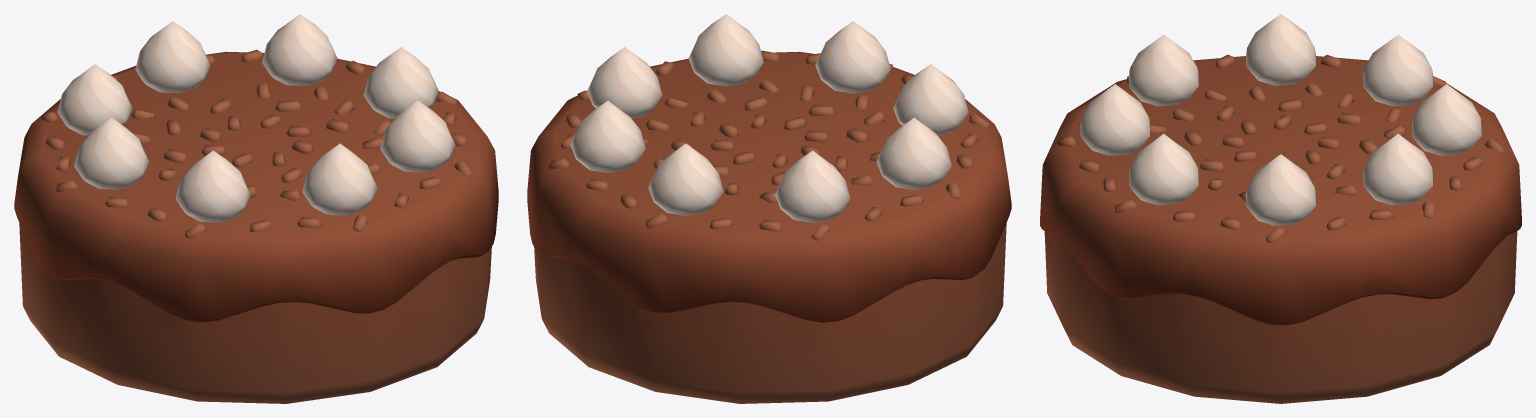
File: cake-chocolate.glb
3 renders of one model, left to right at view 1: azimuth 30°, elevation 25°; view 2: azimuth 150°, elevation 25°; view 3: azimuth 270°, elevation 25°, orthographic.
Visible parts, largest first — view 1: cake_chocolate; view 2: cake_chocolate; view 3: cake_chocolate.
Boxes of the visible parts, left/top/right/bottom form: cake_chocolate: left=14, top=14, right=498, bottom=403; cake_chocolate: left=527, top=14, right=1011, bottom=403; cake_chocolate: left=1040, top=14, right=1521, bottom=403.
Size of the model in its own units: 1.22 by 0.6442 by 1.22.
Materials: 1 (1 with a texture image).
